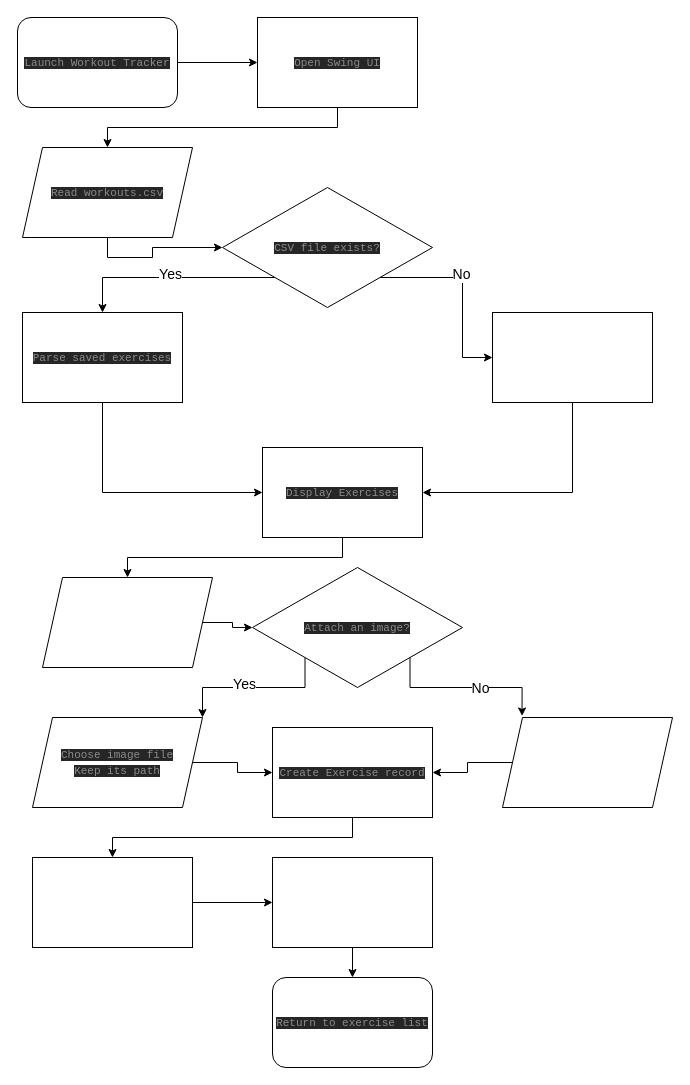
The diagram is 690 pixels wide and 1085 high, and some of its shapes have lost their labels. Each missing label, with the centre of its shape:
Enter exercise details: the point at 127,622
Leave image path blank: the point at 587,762
Refresh list and show image preview if available: the point at 352,902
Save workout records to CSV: the point at 112,902
Start with empty exercise list: the point at 572,357
